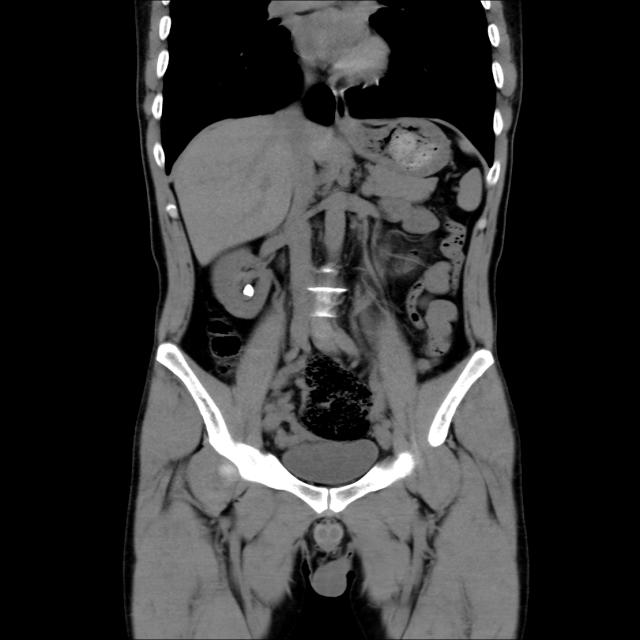kidneystone: (242, 284, 254, 296)
